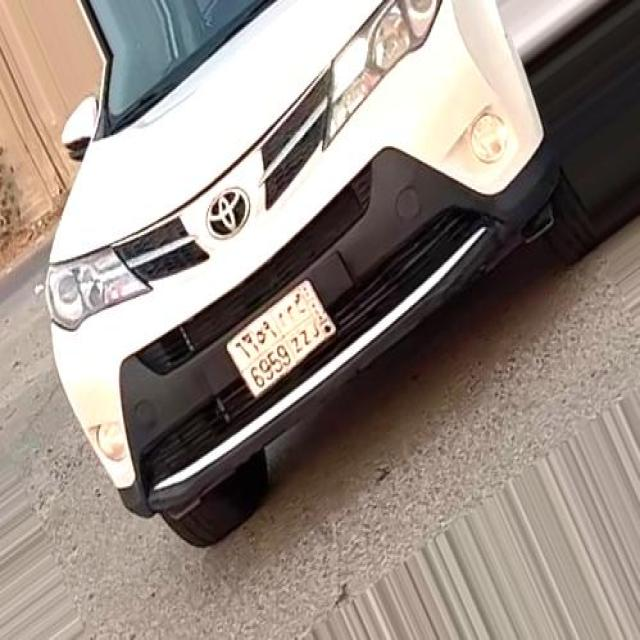Car-plate: (217, 258, 357, 421)
